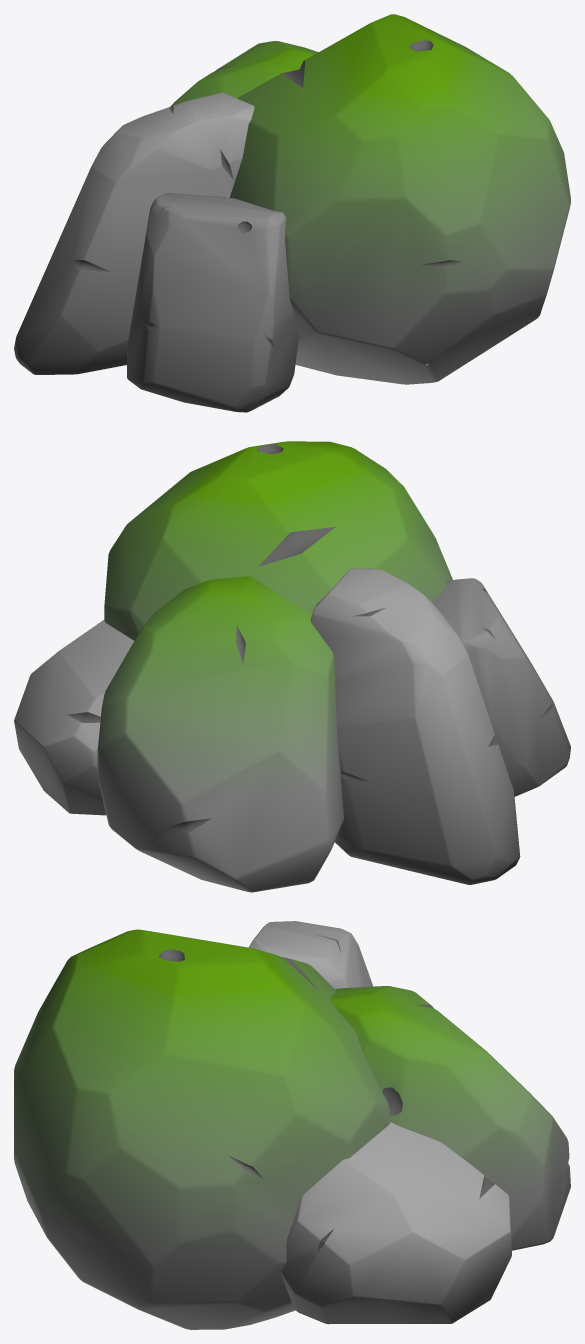
The model's file is RockCliff02.fbx.
3 views of the same model, one above another, from view 1: azimuth 30°, elevation 25°; view 2: azimuth 150°, elevation 25°; view 3: azimuth 270°, elevation 25° (orthographic). The views are drawn at different scales.
Parts seen in each view (by area): view 1: LOD0; view 2: LOD0; view 3: LOD0.
Boxes of the visible parts, box(x1,y1,x2,y2) form: LOD0: box(14, 14, 570, 412); LOD0: box(14, 441, 570, 892); LOD0: box(14, 921, 570, 1329).
Size of what is drawn, in the model's own units: 768 by 710 by 497.
